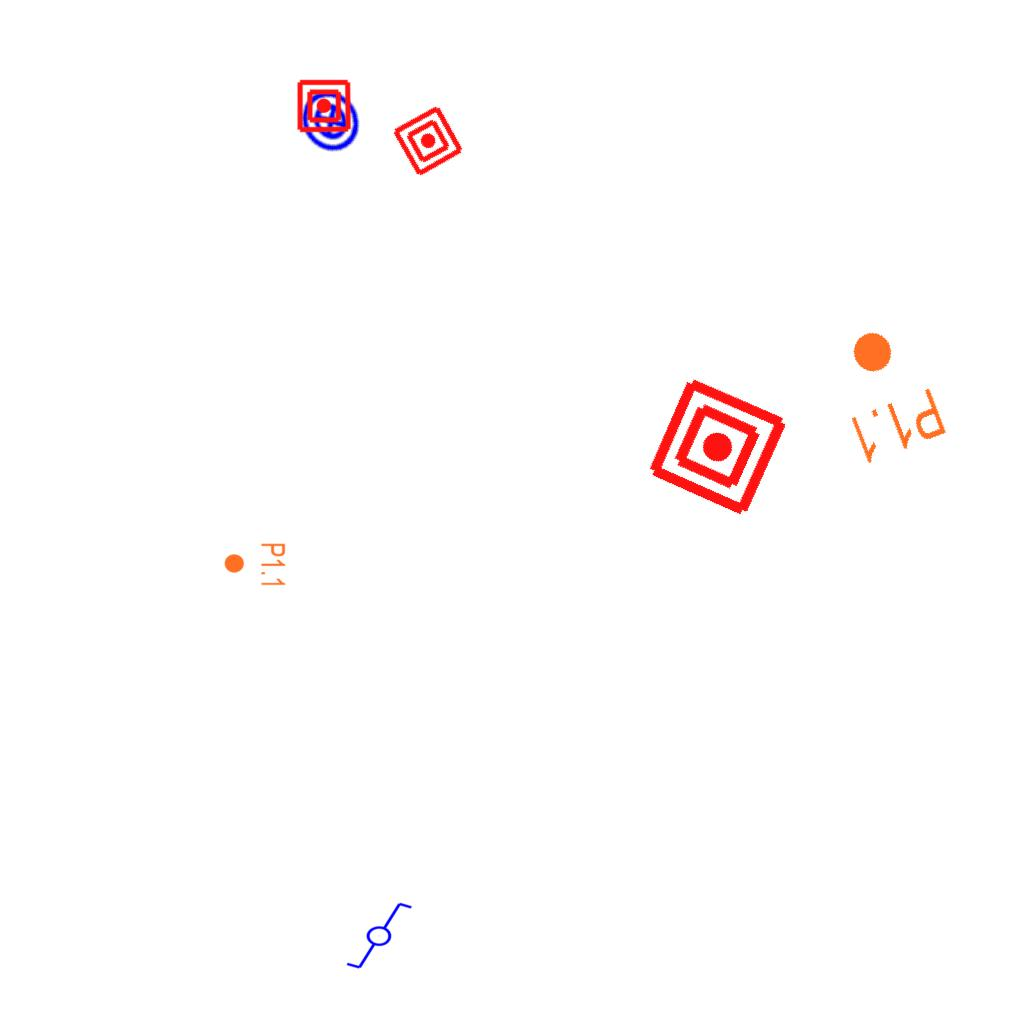Downlight_LED_Einbauleuchten_Flur: (818, 315, 951, 469), (223, 542, 287, 588)
NAM-Nichtautomatischer_Melder: (642, 371, 793, 522), (389, 102, 467, 180), (296, 78, 352, 134)
Taster_beleuchtet: (285, 75, 377, 167)
Wechselschalter: (336, 899, 414, 971)
